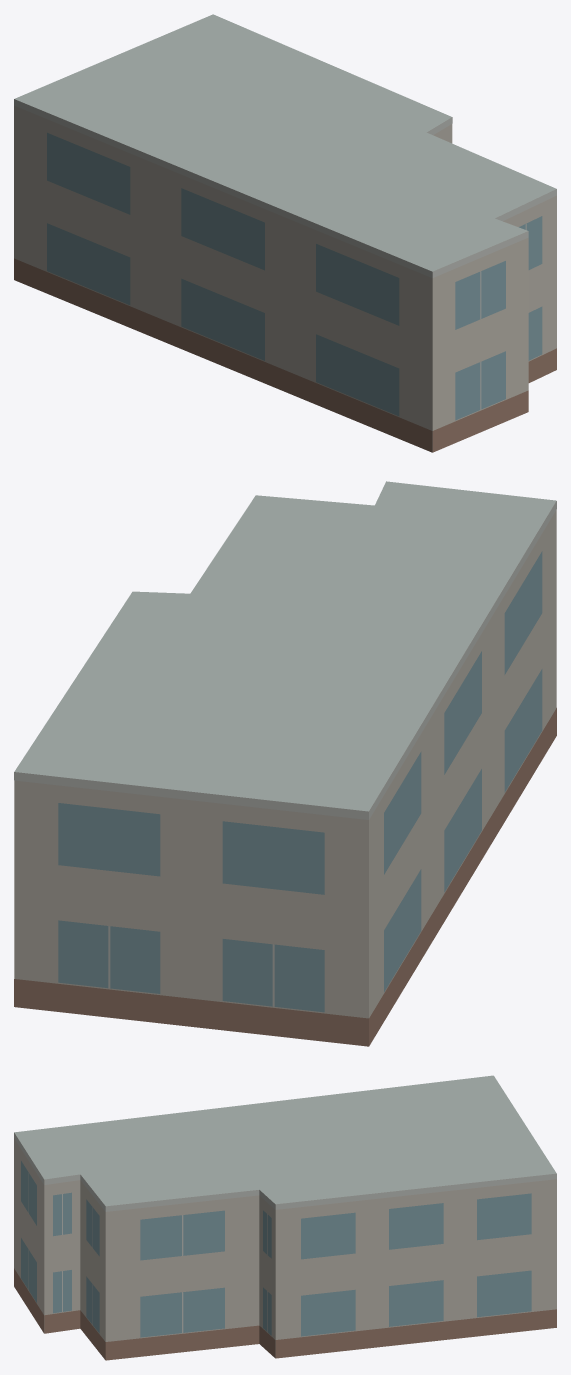
Rendered from survey-upis-32947587.glb.
The picture shows the model from 3 angles, top to bottom: view 1: azimuth 30°, elevation 25°; view 2: azimuth 150°, elevation 25°; view 3: azimuth 270°, elevation 25°; orthographic projection. The views are drawn at different scales.
Visible parts, largest first — view 1: survey-upis-32947587.tmp; view 2: survey-upis-32947587.tmp; view 3: survey-upis-32947587.tmp.
Part boxes in pixels (left/top/right/bottom): survey-upis-32947587.tmp: left=14, top=14, right=556, bottom=452; survey-upis-32947587.tmp: left=14, top=481, right=556, bottom=1046; survey-upis-32947587.tmp: left=14, top=1075, right=556, bottom=1360.
Size of the model in its own units: 12.21 by 6.7 by 21.39.
